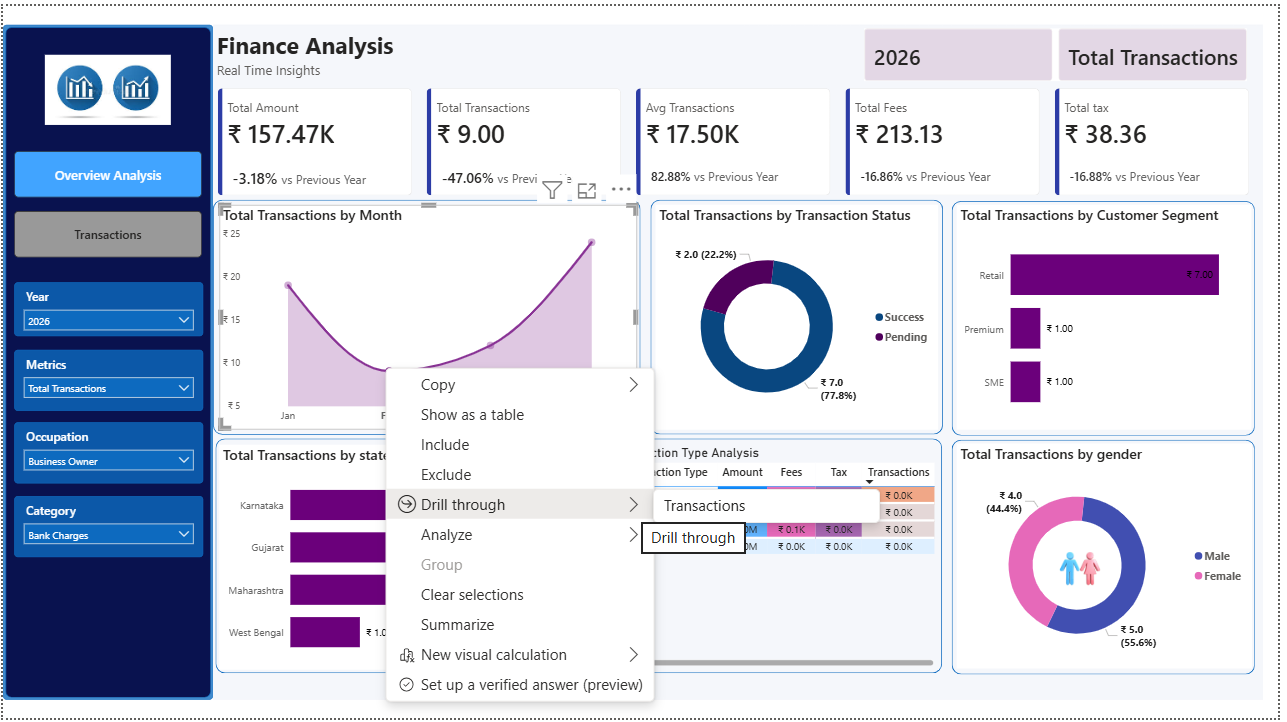

The dashboard page shown, as its layout file describes it:
{"tool":"powerbi","page":{"name":"Overview Analysis","canvas":[1700,950],"ordinal":0},"visuals":[{"type":"shape","box":[280,25,1400,900],"z":0},{"type":"shape","box":[0,25,280,900],"z":1000},{"type":"cardVisual","fields":{"Data":["finance_transactions.Dashboard Title"]},"box":[280,25.7,332.9,77.1],"z":2000},{"type":"cardVisual","fields":{"Data":["finance_transactions.Total Amount","finance_transactions.Total Transactions","finance_transactions.Avg Transactions","finance_transactions.Total Fees","finance_transactions.Total tax"]},"box":[280,102.9,1390,155.7],"z":3000},{"type":"slicer","fields":{"Values":["Calendar Table.Year"]},"box":[15,368.3,251.7,71.7],"z":4000},{"type":"slicer","fields":{"Values":["Metrics.Metrics"]},"box":[15,458.3,251.7,81.7],"z":5000},{"type":"shape","box":[280,258.3,570,313.3],"z":6000},{"type":"areaChart","fields":{"Y":["finance_transactions.Total Transactions"],"Category":["Calendar Table.Month"]},"box":[288.6,265.7,555.7,300],"z":7000},{"type":"cardVisual","fields":{"Data":["finance_transactions.Selected Year","finance_transactions.Selected Metrics"]},"box":[1143.3,25,521.7,80],"z":8000},{"type":"shape","box":[862.9,258.6,390,312.9],"z":9000},{"type":"donutChart","fields":{"Y":["finance_transactions.Total Transactions"],"Category":["finance_transactions.transaction_status"]},"box":[870,265.7,377.1,300],"z":10000},{"type":"shape","box":[1265.7,260,404.3,312.9],"z":11000},{"type":"barChart","fields":{"Y":["finance_transactions.Total Transactions"],"Category":["customers.customer_segment"]},"box":[1271.4,265.7,392.9,300],"z":12000},{"type":"shape","box":[282.9,577.1,520,312.9],"z":13000},{"type":"barChart","fields":{"Y":["finance_transactions.Total Transactions"],"Category":["customers.state"]},"box":[288.6,584.3,510,300],"z":14000},{"type":"shape","box":[805.7,577.1,447.1,312.9],"z":15000},{"type":"tableEx","title":"Transaction Type Analysis","fields":{"Values":["finance_transactions.transaction_type","finance_transactions.Total Amount","finance_transactions.Total Fees","finance_transactions.Total tax","finance_transactions.Total Transactions"]},"box":[808.6,584.3,438.6,300],"z":16000},{"type":"shape","box":[1265.7,578.6,404.3,312.9],"z":17000},{"type":"donutChart","fields":{"Y":["finance_transactions.Total Transactions"],"Category":["customers.gender"]},"box":[1271.7,583.3,393.3,300],"z":18000},{"type":"slicer","fields":{"Values":["customers.occupation"]},"box":[15,555,251.7,81.7],"z":19000},{"type":"slicer","fields":{"Values":["finance_transactions.merchant_category"]},"box":[15,653.3,251.7,81.7],"z":20000},{"type":"pageNavigator","box":[15,193.3,250,143.3],"z":21000},{"type":"image","box":[1405,715,63.3,70],"z":22000},{"type":"image","box":[55,65,170,93.3],"z":23000}]}

Visuals, with their boxes in screenshot pixels (x1, y1, x2, y2), scaled from the page's 1700x950 canvas onto the 1287x722 screenshot:
shape: rect(212, 19, 1272, 703)
shape: rect(0, 19, 212, 703)
cardVisual - finance_transactions.Dashboard Title: rect(212, 20, 464, 78)
cardVisual - finance_transactions.Total Amount x finance_transactions.Total Transactions: rect(212, 78, 1264, 197)
slicer - Calendar Table.Year: rect(11, 280, 202, 334)
slicer - Metrics.Metrics: rect(11, 348, 202, 410)
shape: rect(212, 196, 644, 434)
areaChart - finance_transactions.Total Transactions x Calendar Table.Month: rect(218, 202, 639, 430)
cardVisual - finance_transactions.Selected Year x finance_transactions.Selected Metrics: rect(866, 19, 1261, 80)
shape: rect(653, 197, 949, 434)
donutChart - finance_transactions.Total Transactions x finance_transactions.transaction_status: rect(659, 202, 944, 430)
shape: rect(958, 198, 1264, 435)
barChart - finance_transactions.Total Transactions x customers.customer_segment: rect(963, 202, 1260, 430)
shape: rect(214, 439, 608, 676)
barChart - finance_transactions.Total Transactions x customers.state: rect(218, 444, 605, 672)
shape: rect(610, 439, 948, 676)
"Transaction Type Analysis" tableEx: rect(612, 444, 944, 672)
shape: rect(958, 440, 1264, 678)
donutChart - finance_transactions.Total Transactions x customers.gender: rect(963, 443, 1261, 671)
slicer - customers.occupation: rect(11, 422, 202, 484)
slicer - finance_transactions.merchant_category: rect(11, 497, 202, 559)
pageNavigator: rect(11, 147, 201, 256)
image: rect(1064, 543, 1112, 597)
image: rect(42, 49, 170, 120)
